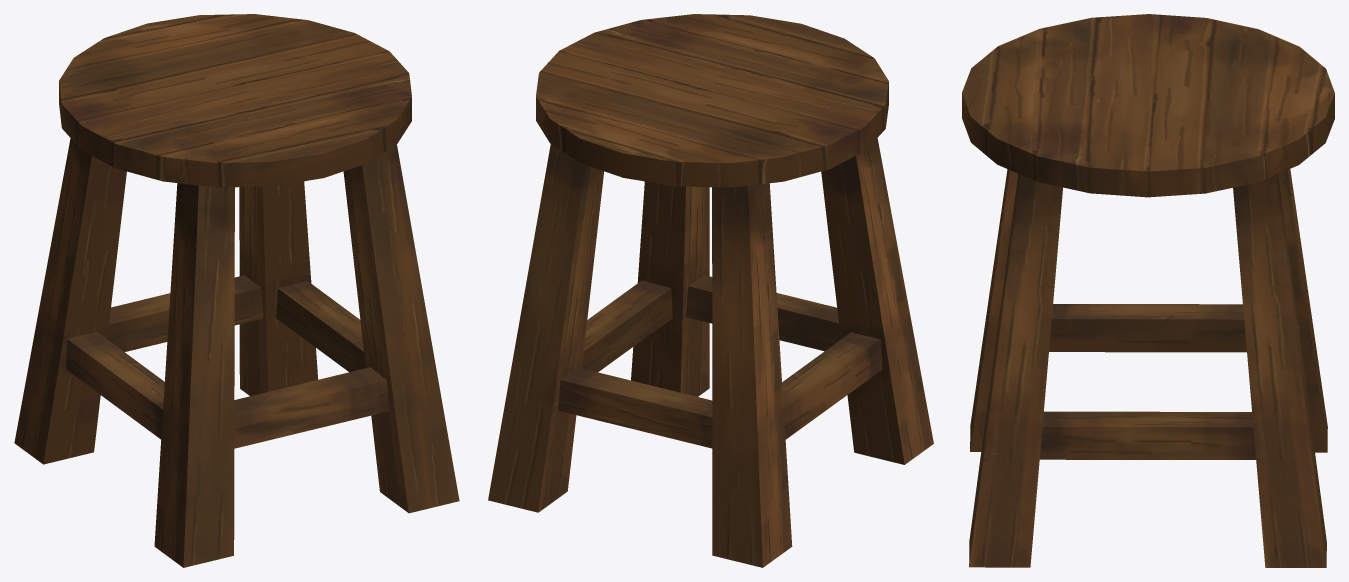
File: wodenChair.glb
The picture shows the model from 3 angles, left to right: view 1: azimuth 30°, elevation 25°; view 2: azimuth 150°, elevation 25°; view 3: azimuth 270°, elevation 25°; orthographic projection. The views are drawn at different scales.
Visible parts, largest first — view 1: Chair; view 2: Chair; view 3: Chair.
Part boxes in pixels (<box>): Chair: <box>14,14,459,567</box>; Chair: <box>488,14,933,567</box>; Chair: <box>962,14,1334,567</box>.
Bounding box in the file's own units: 47.53 × 56.73 × 47.53.
Materials: 1 (1 with a texture image).
